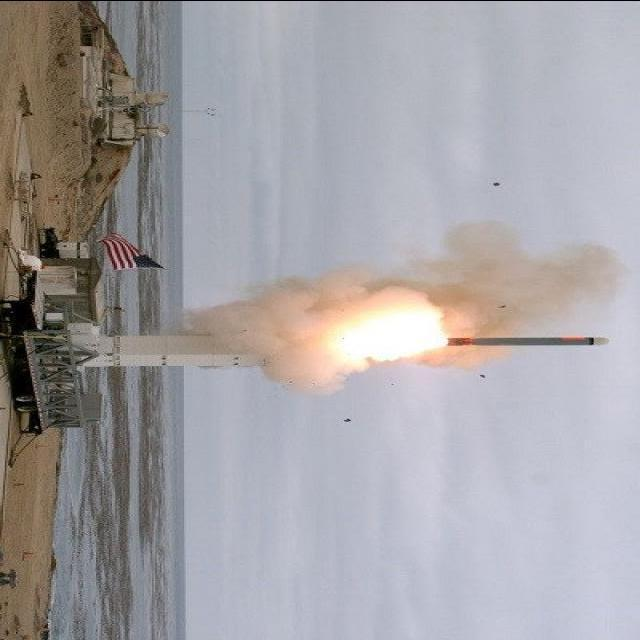missile: (438, 322, 640, 364)
